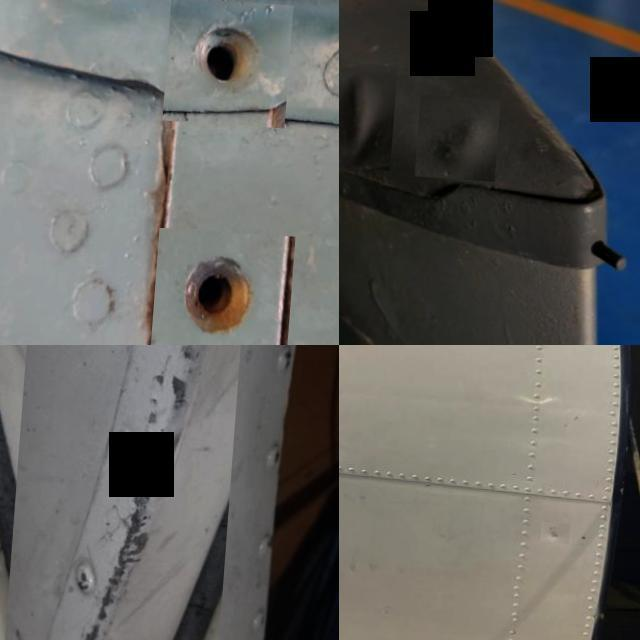Crack: (0, 345, 247, 640)
Dent: (420, 90, 505, 176), (339, 57, 401, 165), (546, 516, 576, 538)
Missing_Fastener: (158, 224, 301, 345), (167, 0, 296, 124)
